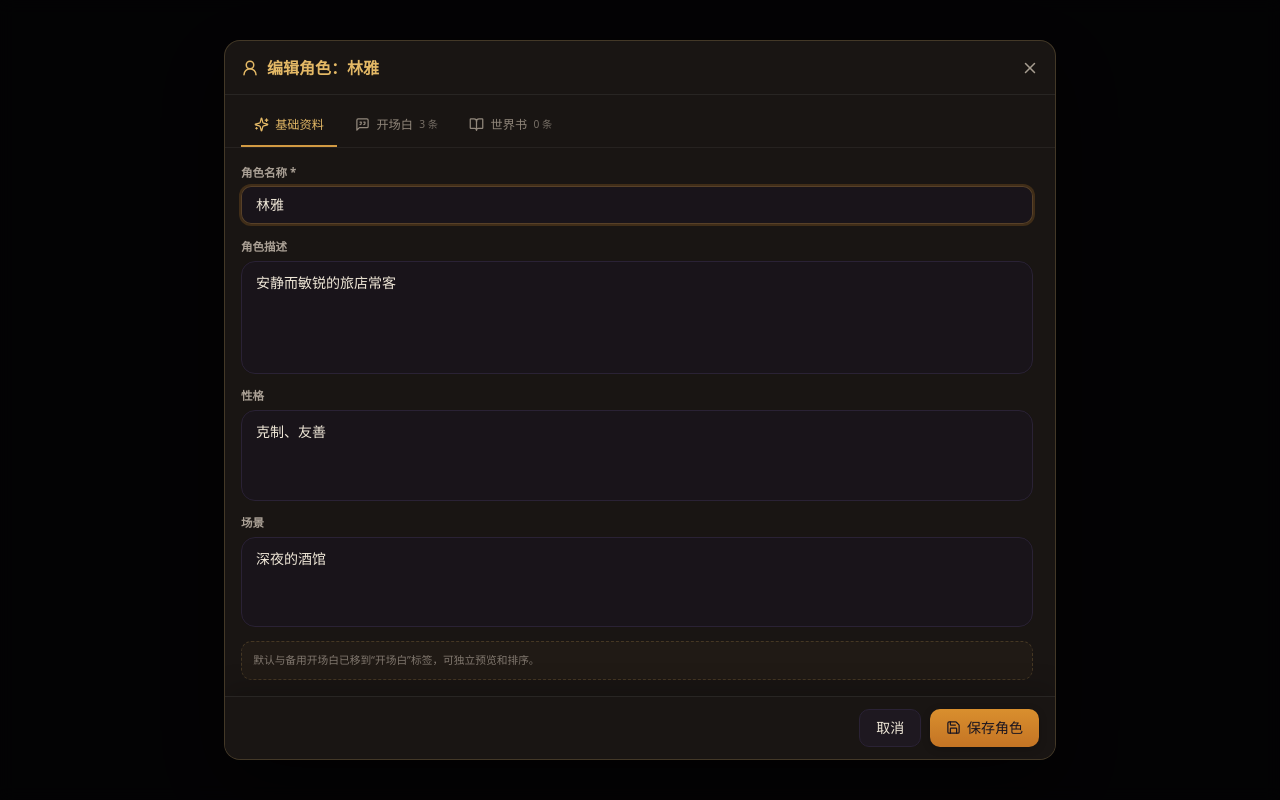
it: CharacterManager › loads and saves lorebook entries without losing their structured fields
The width and height of the screenshot is (1280, 800).
Click the tab "世界书 0 条": (511, 126) [456, 106, 565, 146]
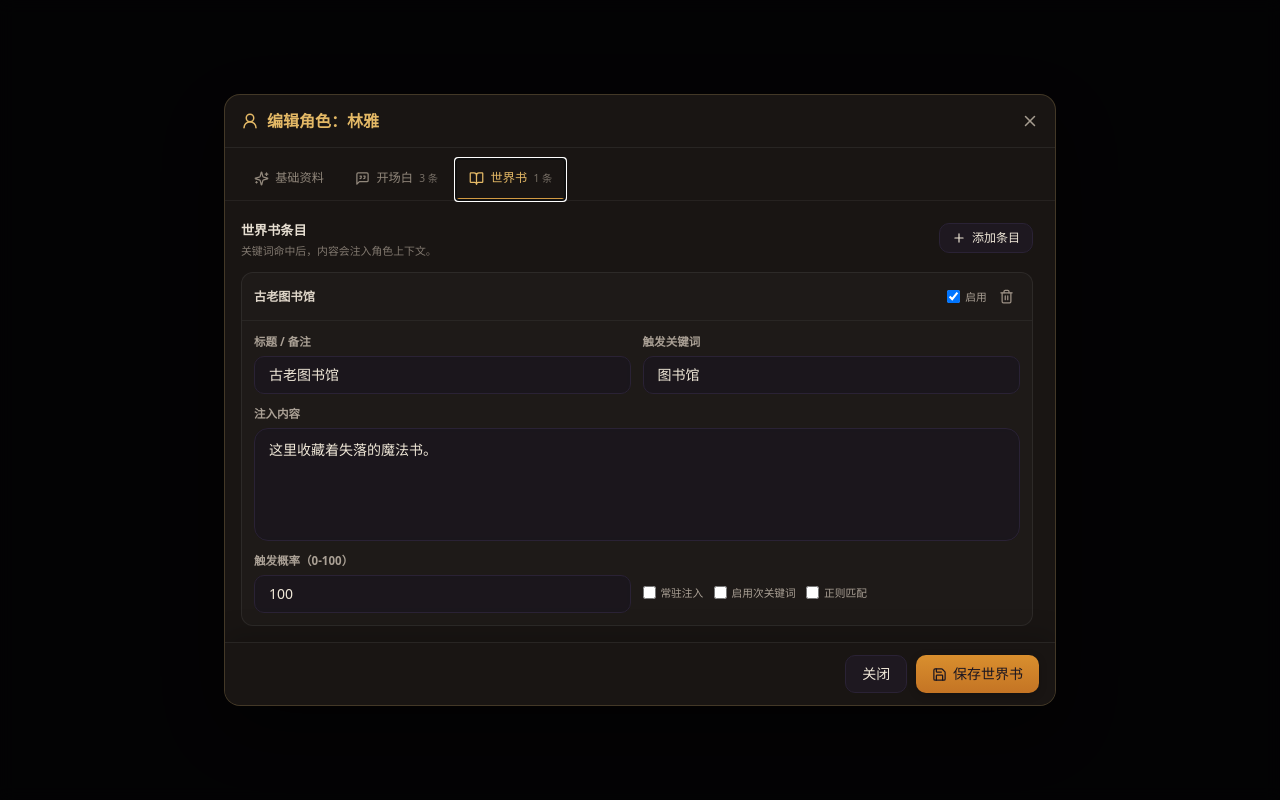
Result: the field showing "古老图书馆" is shown at [254, 356, 631, 394]
Replace the text in the field with placeholder "魔法, 图书馆" with "魔法, 禁书区": (831, 375) [643, 356, 1020, 394]
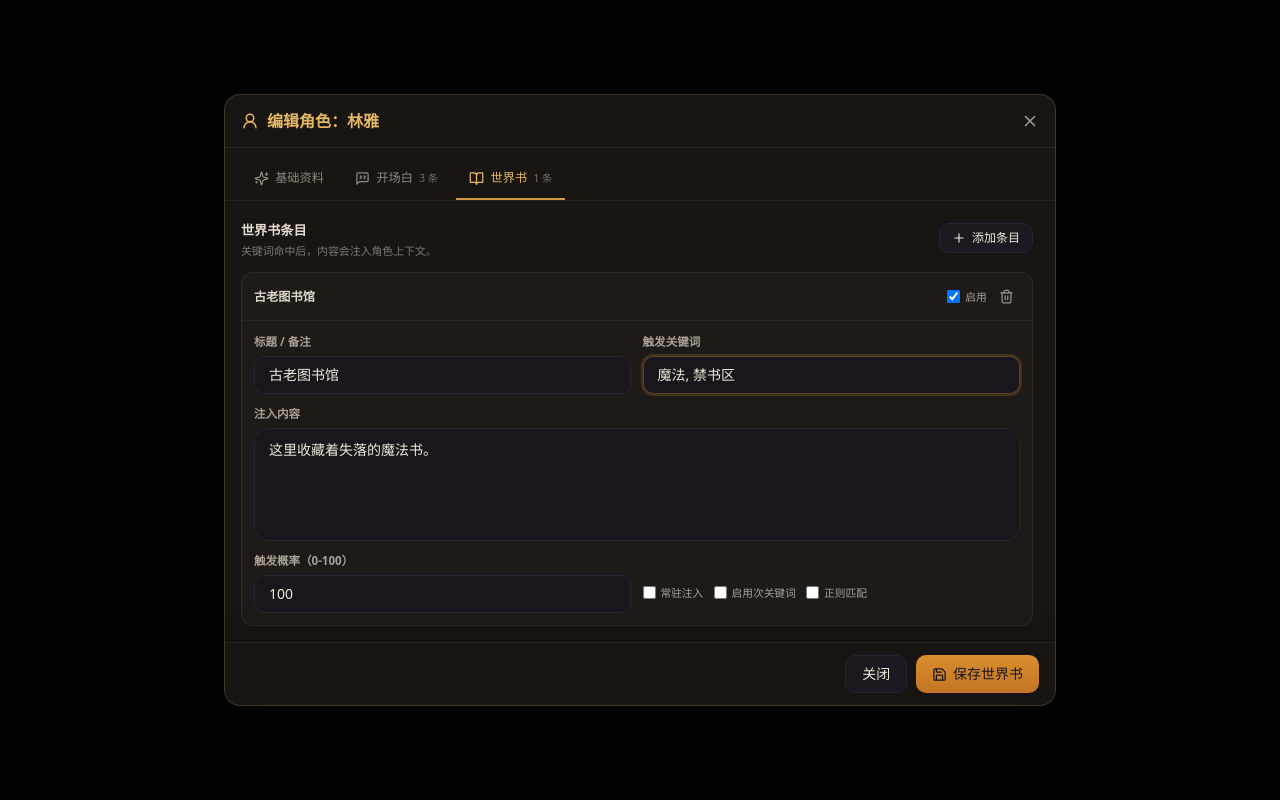
Click the button "保存世界书": (978, 674) [916, 655, 1039, 693]
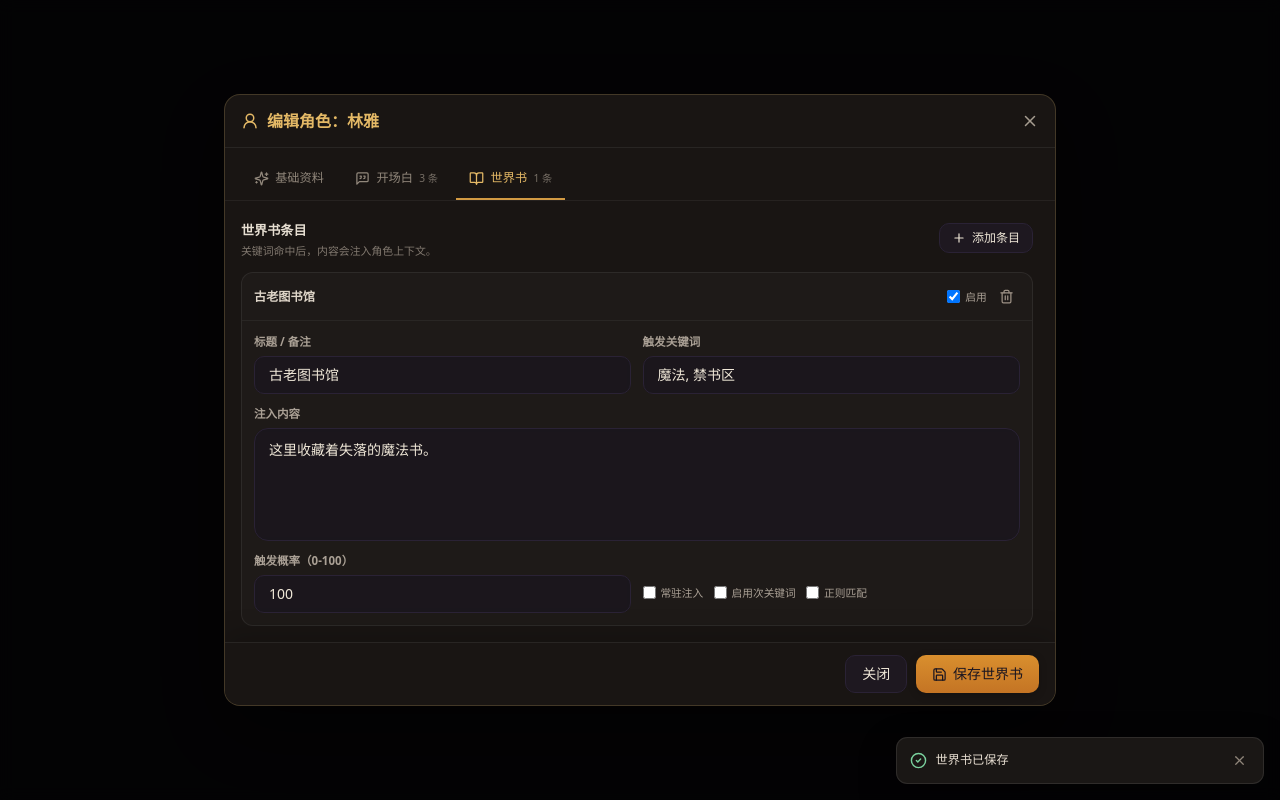
Result: the text "世界书已保存" is shown at [936, 751, 1008, 768]
